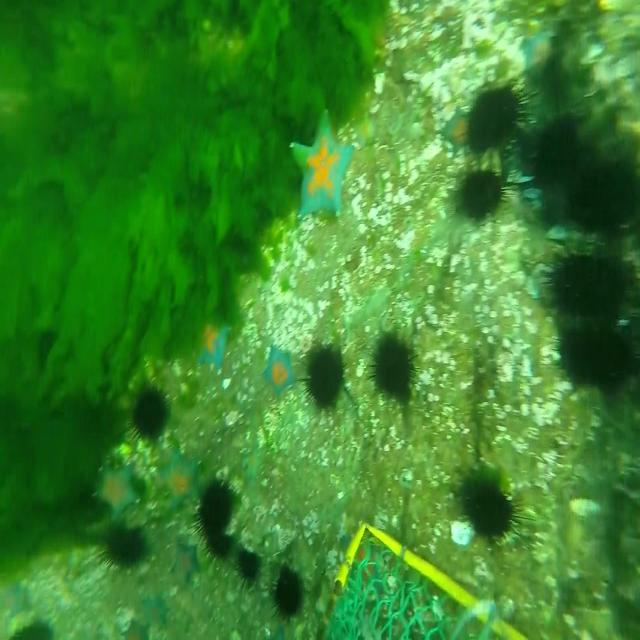echinus: (541, 242, 640, 317), (551, 316, 640, 398), (558, 157, 640, 234), (457, 475, 536, 550), (466, 78, 538, 158), (519, 110, 588, 187), (365, 330, 422, 407), (295, 342, 348, 412), (188, 476, 240, 547), (125, 382, 173, 456), (457, 166, 518, 222), (96, 518, 151, 578), (268, 562, 304, 622), (541, 53, 574, 105), (232, 546, 264, 588), (201, 532, 236, 564), (9, 617, 56, 640)
starfish: (286, 105, 356, 220), (155, 452, 201, 509), (98, 460, 140, 517), (261, 341, 299, 399), (197, 319, 231, 373), (520, 29, 553, 80), (170, 541, 202, 590), (443, 107, 474, 156), (353, 112, 379, 148)
